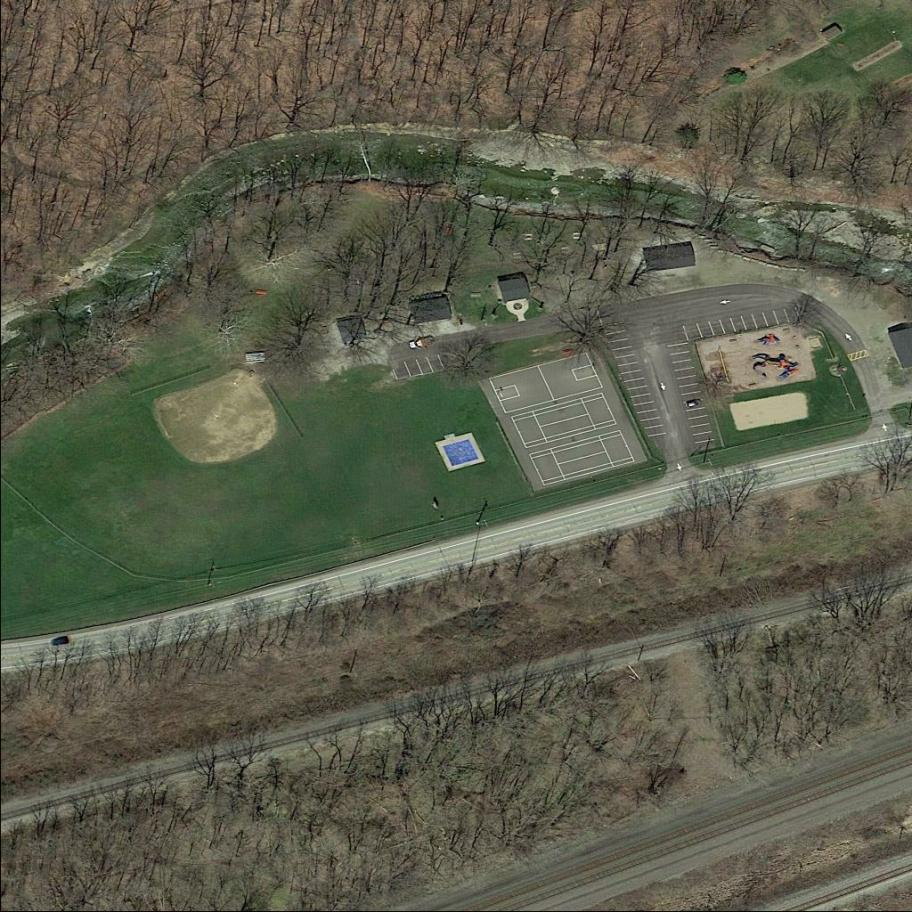large-vehicle: (409, 334, 436, 351)
small-vehicle: (50, 635, 69, 647), (686, 398, 703, 409)
